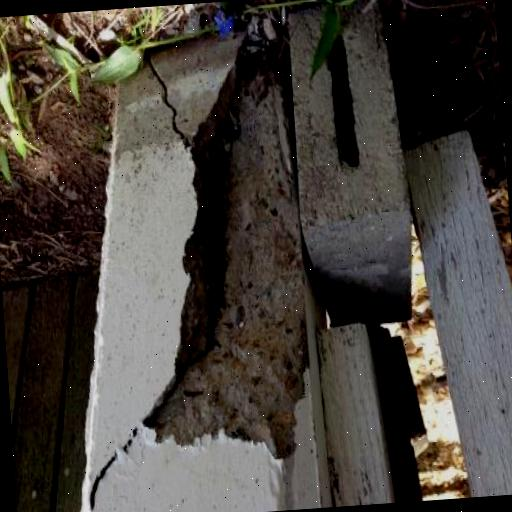spalling: (140, 39, 309, 456), (82, 423, 142, 512), (136, 51, 188, 152)
